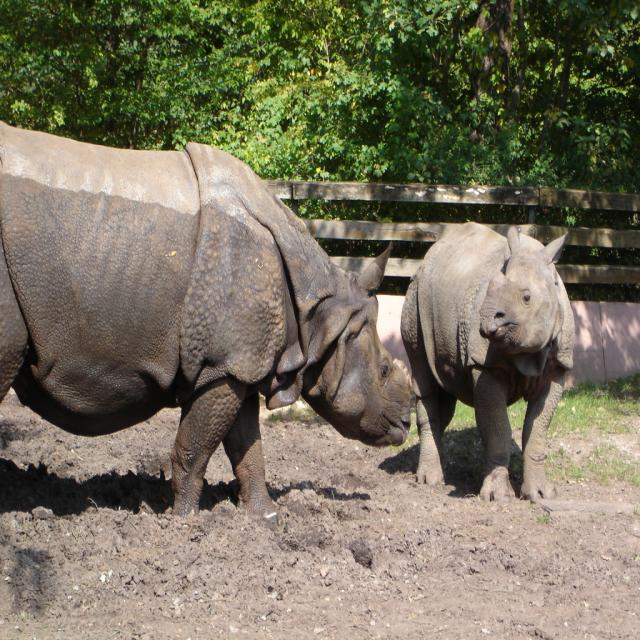rhino: (22, 70, 404, 587), (351, 156, 588, 556)
